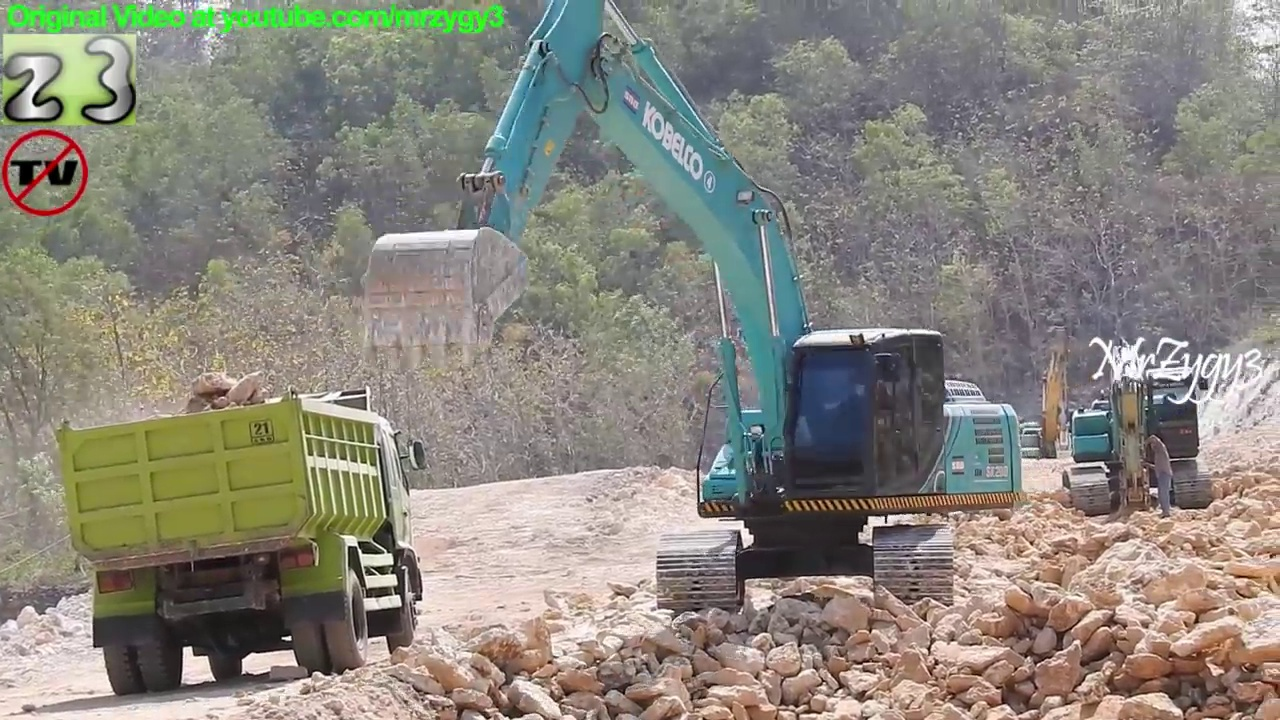excavator: (353, 1, 1031, 627), (1002, 316, 1105, 476)
excavator breaker: (1054, 326, 1223, 536)
truck: (50, 381, 434, 700)
worker: (1138, 423, 1185, 523)
